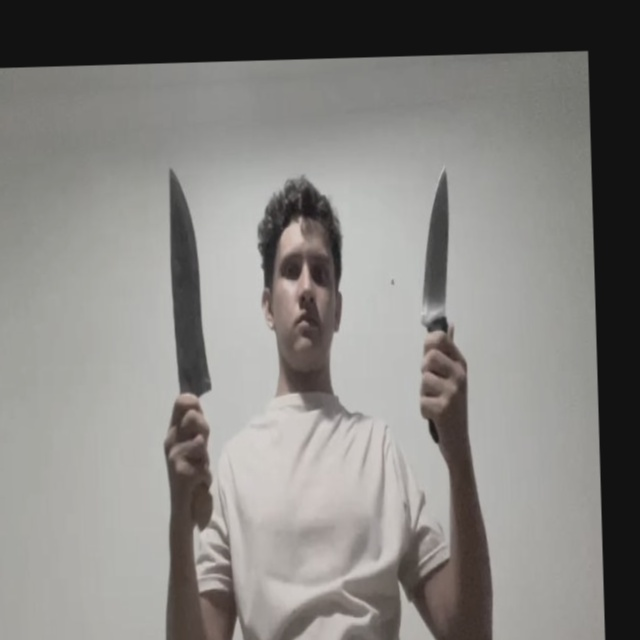Sharp-Object: (166, 162, 211, 392), (418, 165, 454, 319)
